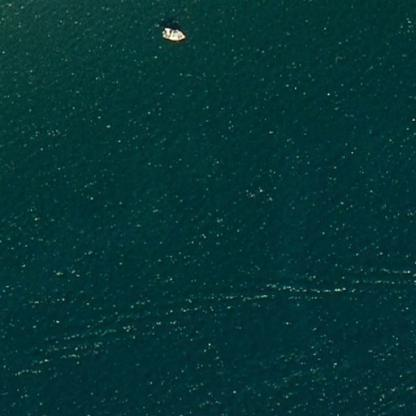ship: (156, 20, 189, 44)
